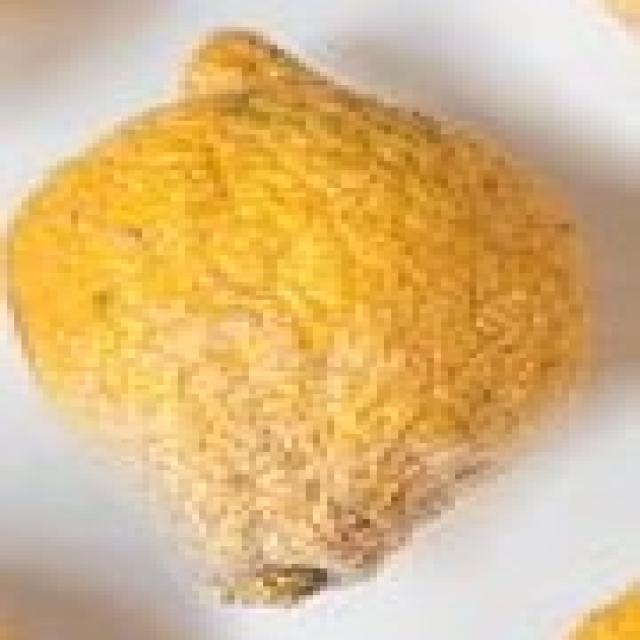overripe: (0, 22, 607, 613)
